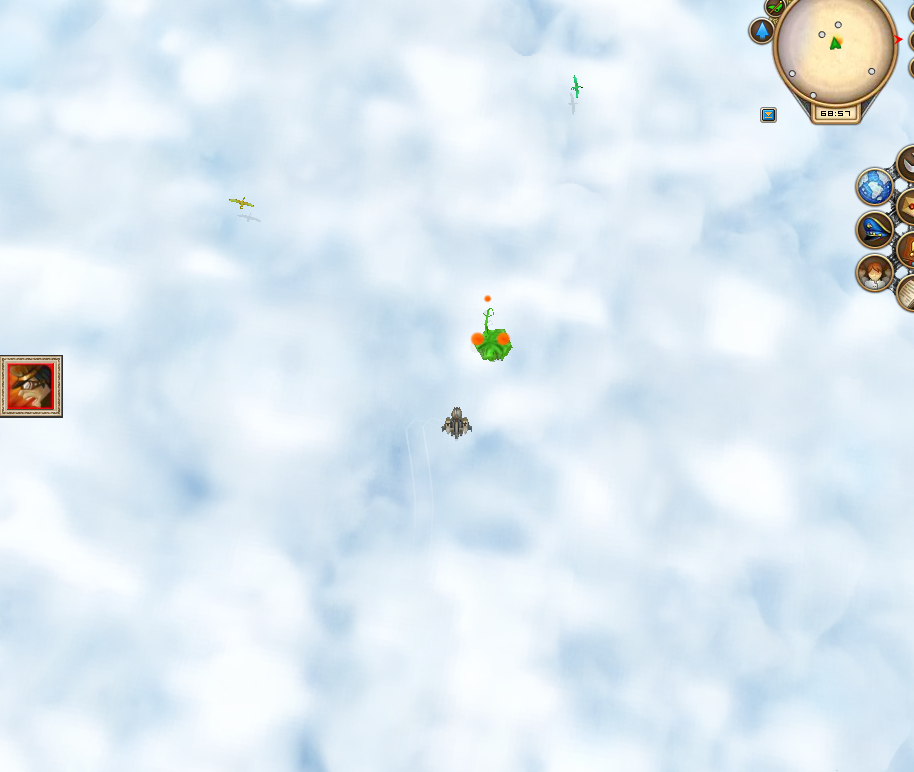dandelion-full: (464, 291, 517, 369)
